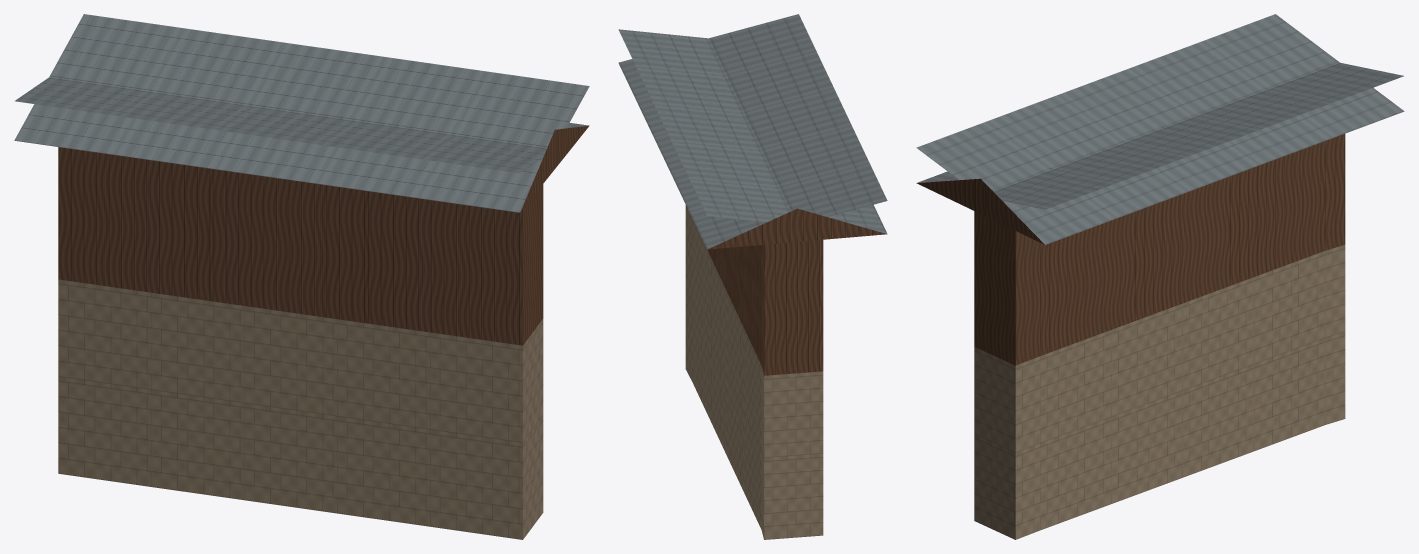
Rendered from bld_c43_45_196.gltf.
3 views of the same model, side by side, from view 1: azimuth 30°, elevation 25°; view 2: azimuth 150°, elevation 25°; view 3: azimuth 270°, elevation 25° (orthographic). The views are drawn at different scales.
Visible parts, largest first — view 1: bld_c43_45_196; view 2: bld_c43_45_196; view 3: bld_c43_45_196.
Part boxes in pixels (x1,y1,x2,y2): bld_c43_45_196: (14, 14, 589, 539); bld_c43_45_196: (618, 14, 887, 539); bld_c43_45_196: (916, 14, 1404, 539).
Bounding box in the file's own units: 11.85 × 10.1 × 12.5.
Materials: 4 (4 with a texture image).
